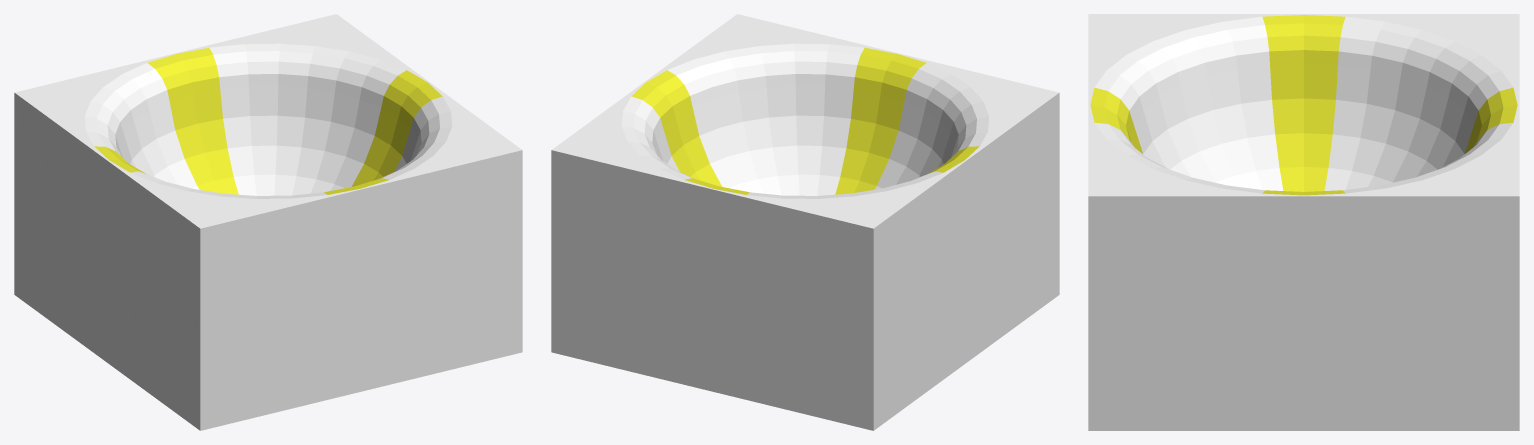
The model's file is RoundHoleCube_40x40x24.fbx.
3 views of the same model, side by side, from view 1: azimuth 30°, elevation 25°; view 2: azimuth 150°, elevation 25°; view 3: azimuth 270°, elevation 25° (orthographic). The views are drawn at different scales.
Parts seen in each view (by area): view 1: RoundHoleCube_40x40x24; view 2: RoundHoleCube_40x40x24; view 3: RoundHoleCube_40x40x24.
Boxes of the visible parts, x1,y1,x2,y2 form: RoundHoleCube_40x40x24: (14,14,522,430); RoundHoleCube_40x40x24: (551,14,1059,430); RoundHoleCube_40x40x24: (1088,14,1519,430).
Size of the model in its own units: 40 by 40 by 24.
